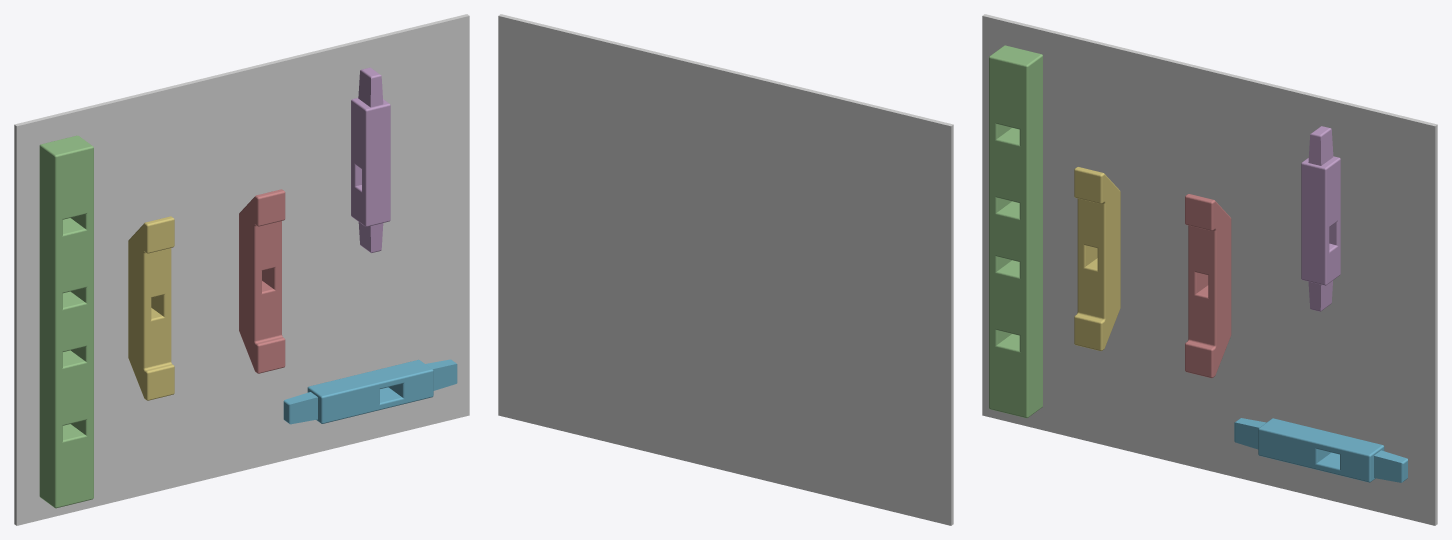
The model's file is pickup_layout.glb.
The picture shows the model from 3 angles, left to right: view 1: azimuth 30°, elevation 25°; view 2: azimuth 150°, elevation 25°; view 3: azimuth 330°, elevation 25°; orthographic projection.
Visible parts, largest first — view 1: world, 6.obj, 1.obj, 0.obj, 2.obj, 3.obj; view 2: world; view 3: world, 6.obj, 1.obj, 0.obj, 2.obj, 3.obj.
Boxes of the visible parts, <box> form: world: <box>14,14,469,525</box>; 6.obj: <box>39,135,93,508</box>; 1.obj: <box>128,216,174,400</box>; 0.obj: <box>239,189,285,373</box>; 2.obj: <box>283,359,457,424</box>; 3.obj: <box>351,67,390,252</box>; world: <box>498,14,953,525</box>; world: <box>982,14,1437,525</box>; 6.obj: <box>989,45,1042,418</box>; 1.obj: <box>1074,167,1120,350</box>; 0.obj: <box>1185,194,1231,378</box>; 2.obj: <box>1234,418,1407,482</box>; 3.obj: <box>1301,126,1340,311</box>.
Size of the model in its own units: 20.45 by 17.24 by 1.72.
